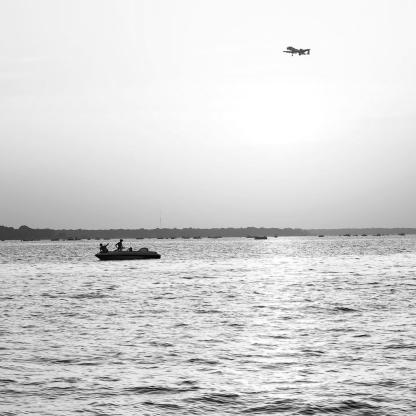A10: (284, 47, 312, 57)
